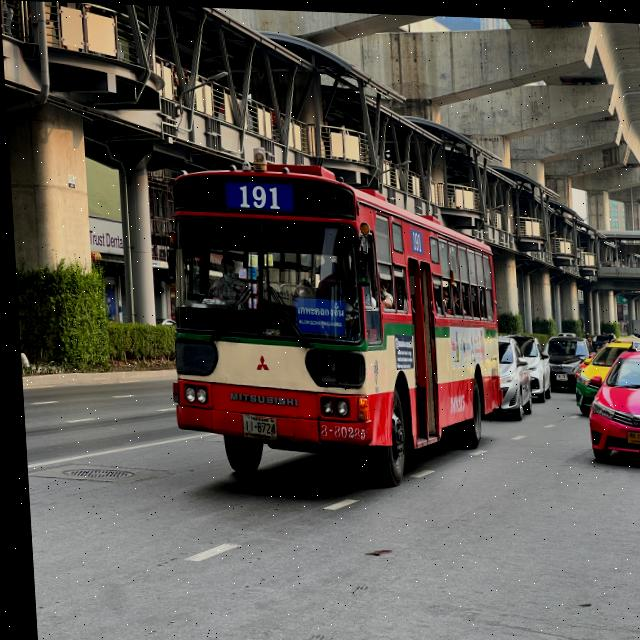BMTA-bus: (151, 142, 509, 497)
Bus-Line-Number: (227, 182, 288, 210)
Destination-Sign-Normal: (290, 293, 345, 337)
